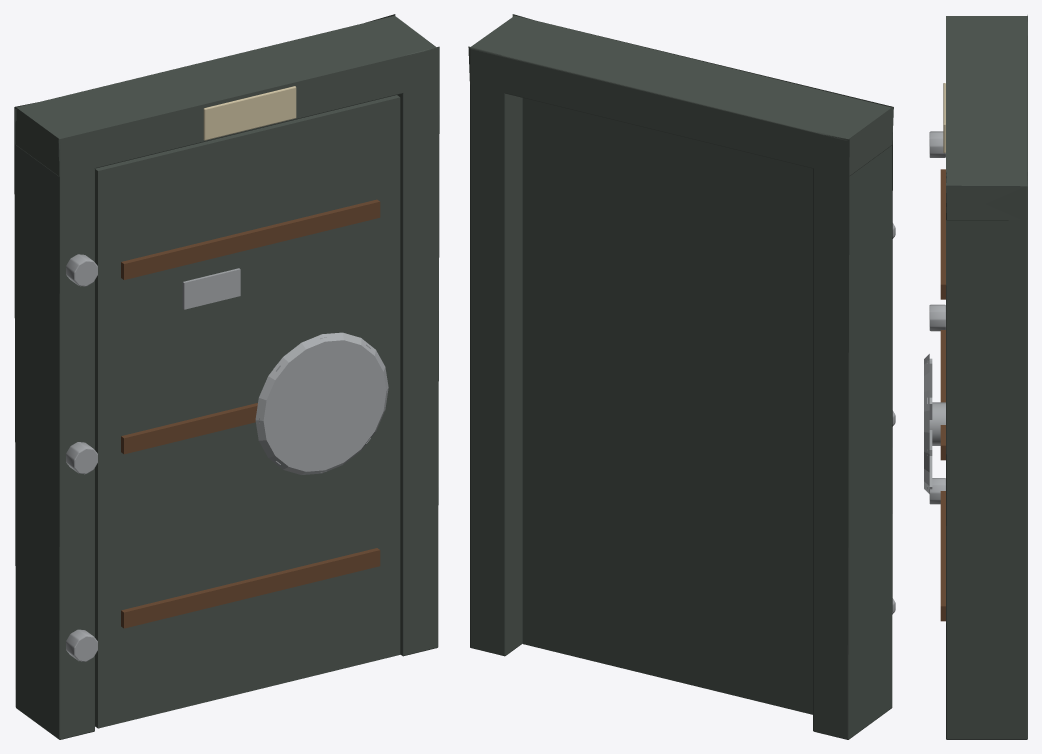
Rendered from PROP_Door_Vault_Records.glb.
3 views of the same model, side by side, from view 1: azimuth 30°, elevation 25°; view 2: azimuth 150°, elevation 25°; view 3: azimuth 270°, elevation 25° (orthographic). The views are drawn at different scales.
Parts seen in each view (by area): view 1: PROP_Door_Vault_Records_Leaf, PROP_Door_Vault_Records_Frame; view 2: PROP_Door_Vault_Records_Leaf, PROP_Door_Vault_Records_Frame; view 3: PROP_Door_Vault_Records_Frame, PROP_Door_Vault_Records_Leaf.
Boxes of the visible parts, x1,y1,x2,y2 form: PROP_Door_Vault_Records_Leaf: (95,95,400,728); PROP_Door_Vault_Records_Frame: (14,14,439,739); PROP_Door_Vault_Records_Leaf: (522,98,812,714); PROP_Door_Vault_Records_Frame: (468,14,895,739); PROP_Door_Vault_Records_Frame: (929,15,1027,739); PROP_Door_Vault_Records_Leaf: (924,169,945,621).
Size of what is drawn, in the model's own units: 1.49 by 2.24 by 0.38.
